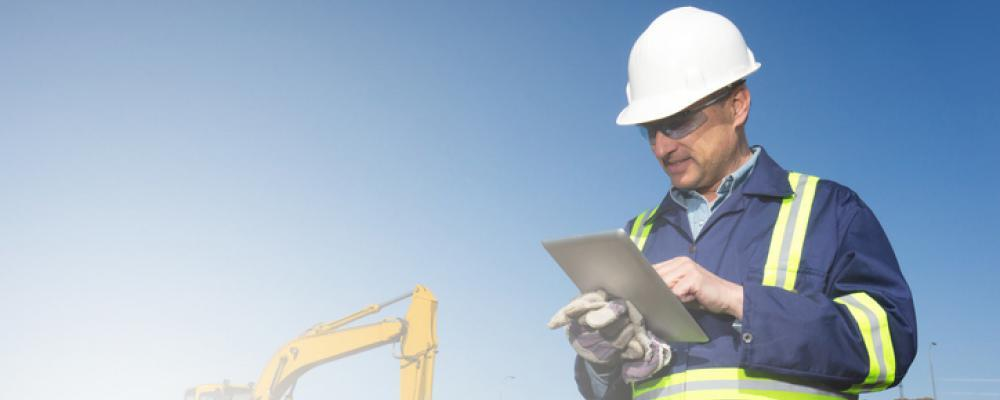helmet: (620, 6, 763, 126)
